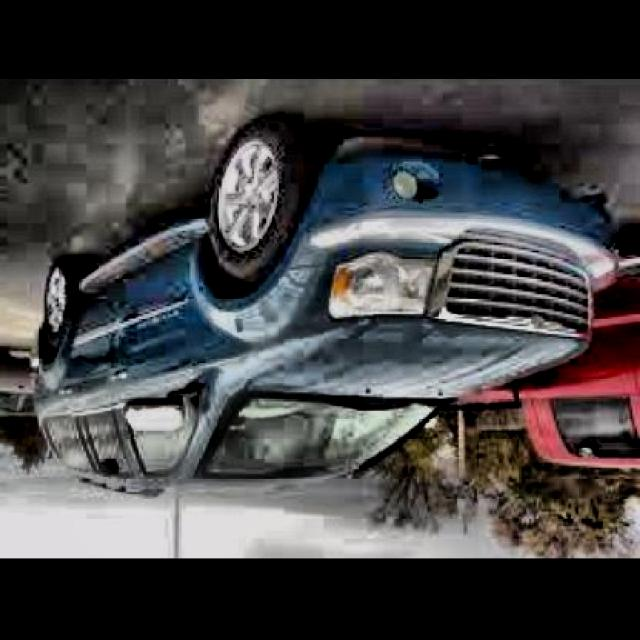blue: (16, 170, 577, 481)
